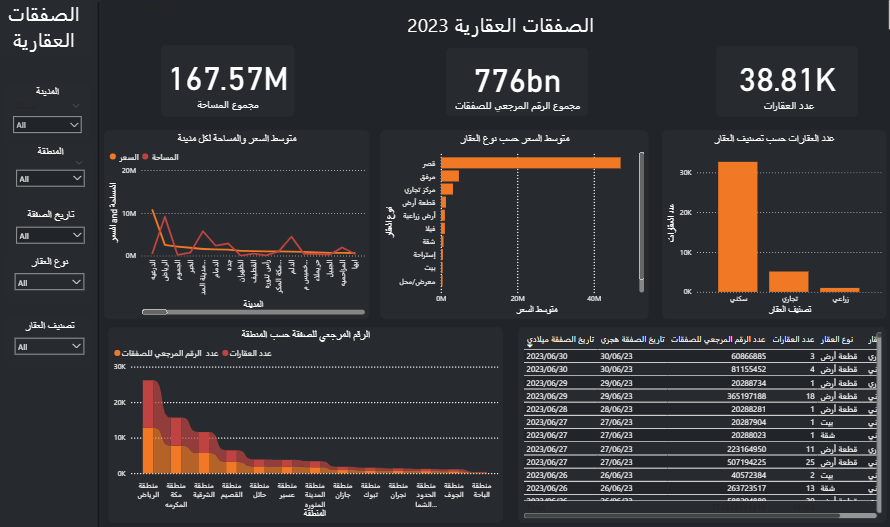

What the dashboard file says about the page in this screenshot:
{"tool":"powerbi","page":{"name":"Page ١","canvas":[1500,900],"ordinal":0},"visuals":[{"type":"shape","box":[0,0,174,900],"z":0},{"type":"barChart","title":"متوسط السعر حسب نوع العقار","fields":{"Category":["dataJam1.نوع العقار"],"Y":["Avg(dataJam1.السعر)"]},"box":[640.5,221.4,447.6,314.3],"z":1000},{"type":"lineChart","title":"متوسط السعر والمساحة لكل مدينة","fields":{"Category":["dataJam1.المدينة"],"Y":["Avg(dataJam1.السعر)","Sum(dataJam1.المساحة)"]},"box":[180,222,442,314],"z":2000},{"type":"ribbonChart","title":"الرقم المرجعي للصفقة حسب المنطقة","fields":{"Y":["CountNonNull(dataJam1.الرقم المرجعي للصفقة)","Sum(dataJam1.عدد العقارات)"],"Category":["dataJam1.المنطقة"]},"box":[188.1,550,657.1,326.2],"z":4000},{"type":"columnChart","title":"عدد العقارات حسب تصنيف العقار","fields":{"Category":["dataJam1.تصنيف العقار"],"Y":["CountNonNull(dataJam1.عدد العقارات)"]},"box":[1109.5,221.4,373.8,314.3],"z":5000},{"type":"card","fields":{"Values":["Sum(dataJam1.الرقم المرجعي للصفقة)"]},"box":[750,84.8,237,113],"z":6000},{"type":"card","fields":{"Values":["CountNonNull(dataJam1.عدد العقارات)"]},"box":[1200,82.6,237,117.4],"z":7000},{"type":"card","fields":{"Values":["Sum(dataJam1.المساحة)"]},"box":[276.1,80.4,221.7,119.6],"z":8000},{"type":"slicer","title":"المدينة","fields":{"Values":["dataJam1.المنطقة"]},"box":[15.2,145.7,141.3,95.7],"z":9000},{"type":"slicer","title":"نوع العقار","fields":{"Values":["dataJam1.نوع العقار"]},"box":[16.7,428.6,142.9,83.3],"z":10000},{"type":"slicer","title":"تاريخ الصفقة ","fields":{"Values":["dataJam1.تاريخ الصفقة ميلادي"]},"box":[19.6,350,141.3,78.3],"z":11000},{"type":"slicer","title":"المنطقة","fields":{"Values":["dataJam1.المدينة"]},"box":[19.6,245.7,141.3,104.3],"z":12000},{"type":"textbox","box":[0,0,158.7,100],"z":13000},{"type":"textbox","box":[189.1,0,1310.9,71.7],"z":15000},{"type":"tableEx","fields":{"Values":["dataJam1.تاريخ الصفقة ميلادي","dataJam1.تاريخ الصفقة هجري","Sum(dataJam1.الرقم المرجعي للصفقة)","Sum(dataJam1.عدد العقارات)","dataJam1.نوع العقار","dataJam1.تصنيف العقار"]},"box":[869,550,614.3,326.2],"z":15001},{"type":"slicer","title":"تصنيف العقار","fields":{"Values":["dataJam1.تصنيف العقار"]},"box":[16.7,535.7,142.9,83.3],"z":15002}]}

Visuals, with their boxes in screenshot pixels (x1, y1, x2, y2), scaled from the page's 1500x900 canvas onto the 890x527 screenshot:
shape: (0, 0, 103, 526)
"متوسط السعر حسب نوع العقار" barChart: (380, 130, 646, 314)
"متوسط السعر والمساحة لكل مدينة" lineChart: (107, 130, 369, 314)
"الرقم المرجعي للصفقة حسب المنطقة" ribbonChart: (112, 322, 501, 513)
"عدد العقارات حسب تصنيف العقار" columnChart: (658, 130, 880, 314)
card - Sum(dataJam1.الرقم المرجعي للصفقة): (445, 50, 586, 116)
card - CountNonNull(dataJam1.عدد العقارات): (712, 48, 853, 117)
card - Sum(dataJam1.المساحة): (164, 47, 295, 117)
"المدينة" slicer: (9, 85, 93, 141)
"نوع العقار" slicer: (10, 251, 95, 300)
"تاريخ الصفقة " slicer: (12, 205, 95, 251)
"المنطقة" slicer: (12, 144, 95, 205)
textbox: (0, 0, 94, 59)
textbox: (112, 0, 889, 42)
tableEx - dataJam1.تاريخ الصفقة ميلادي x dataJam1.تاريخ الصفقة هجري: (516, 322, 880, 513)
"تصنيف العقار" slicer: (10, 314, 95, 362)
